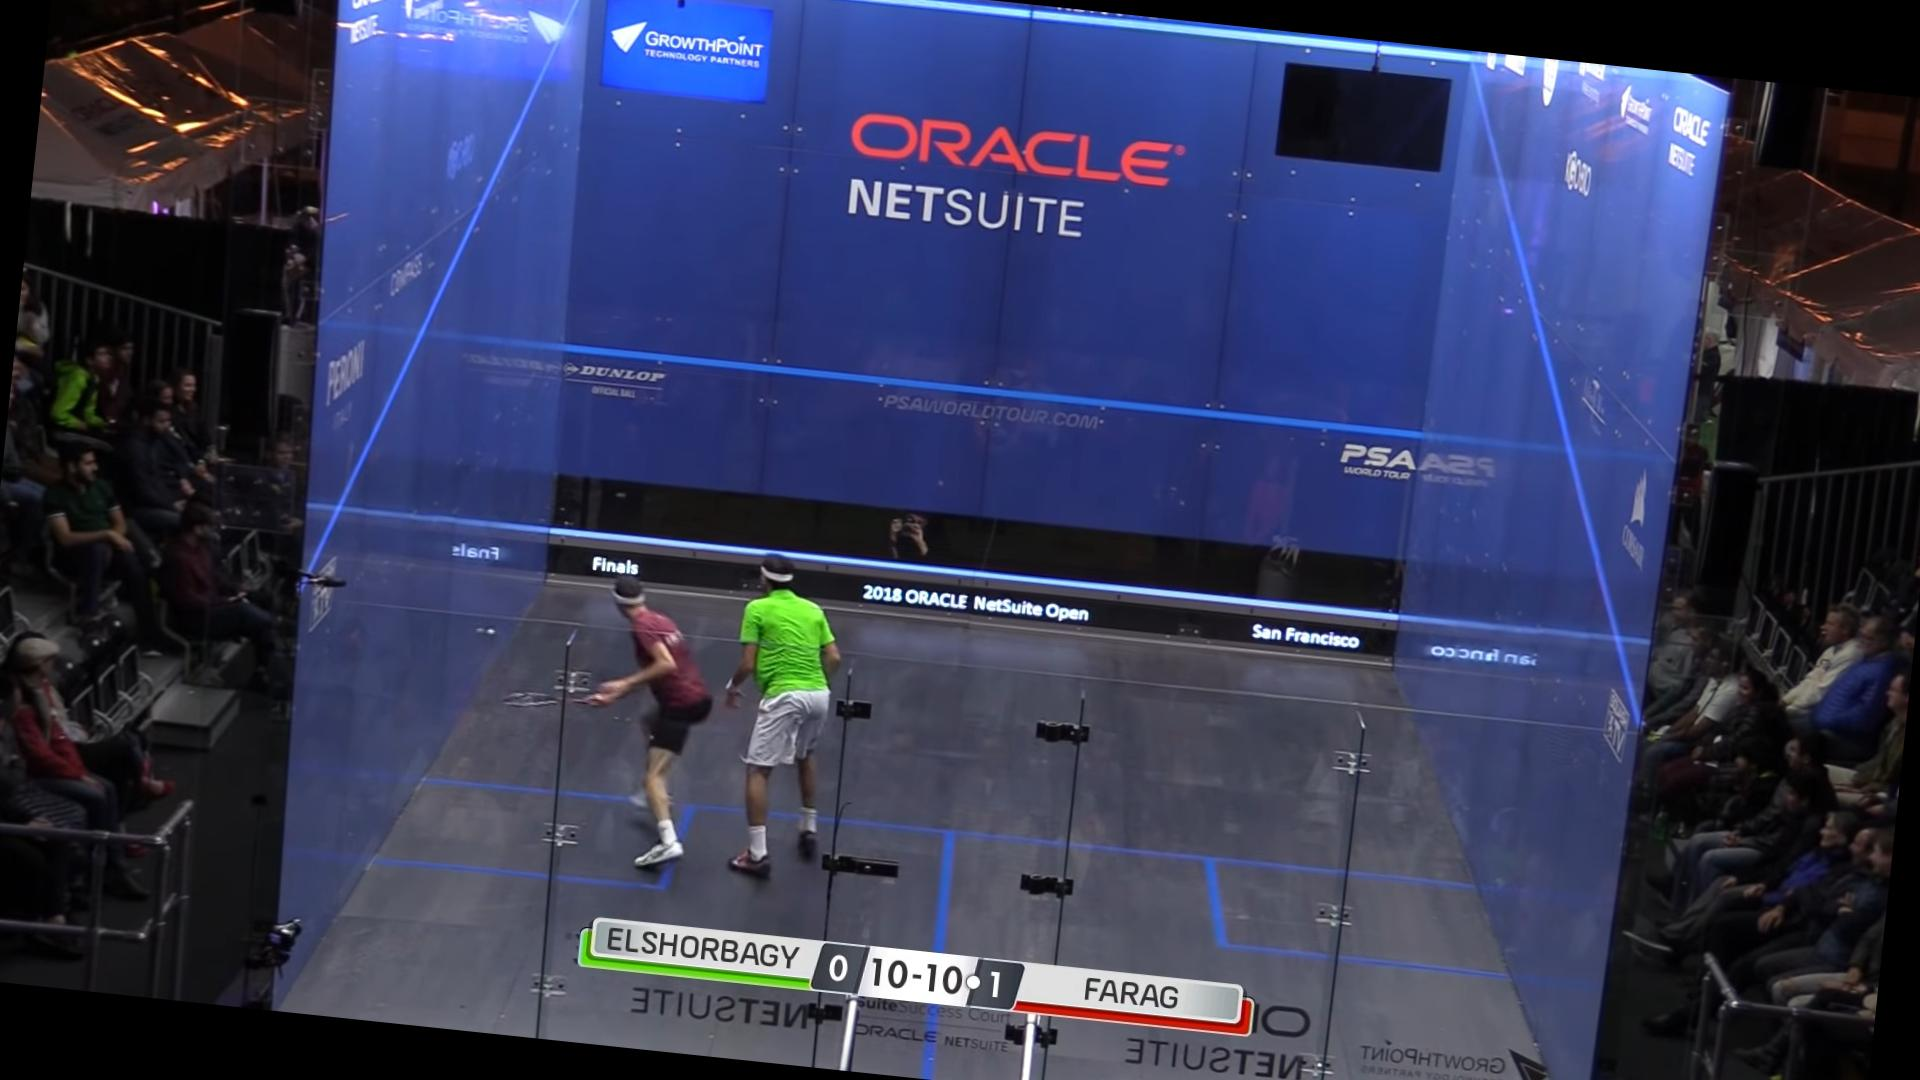Squash-Ball: (489, 624, 502, 642)
